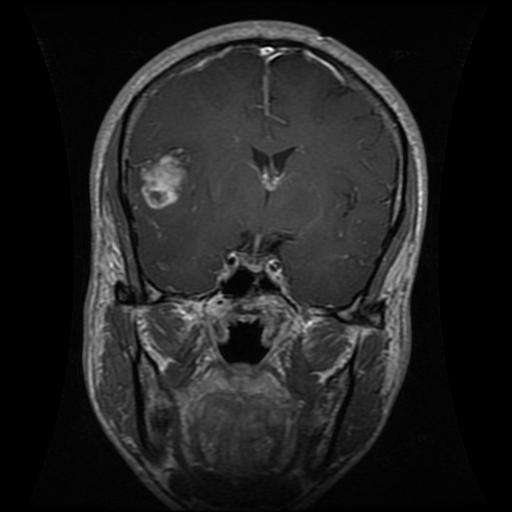Gliomia_tumour: (131, 137, 202, 213)
